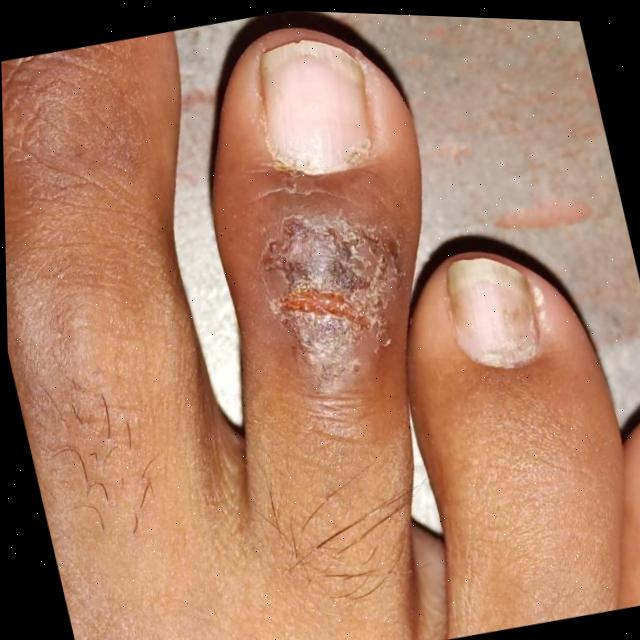Eczema: (270, 205, 376, 324)
